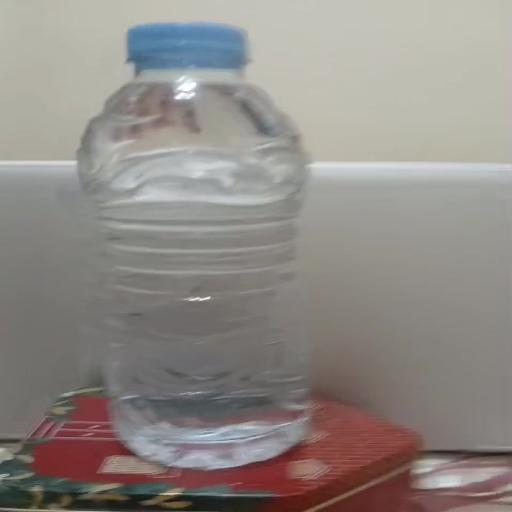bouteille non conformite: (66, 7, 425, 475)
